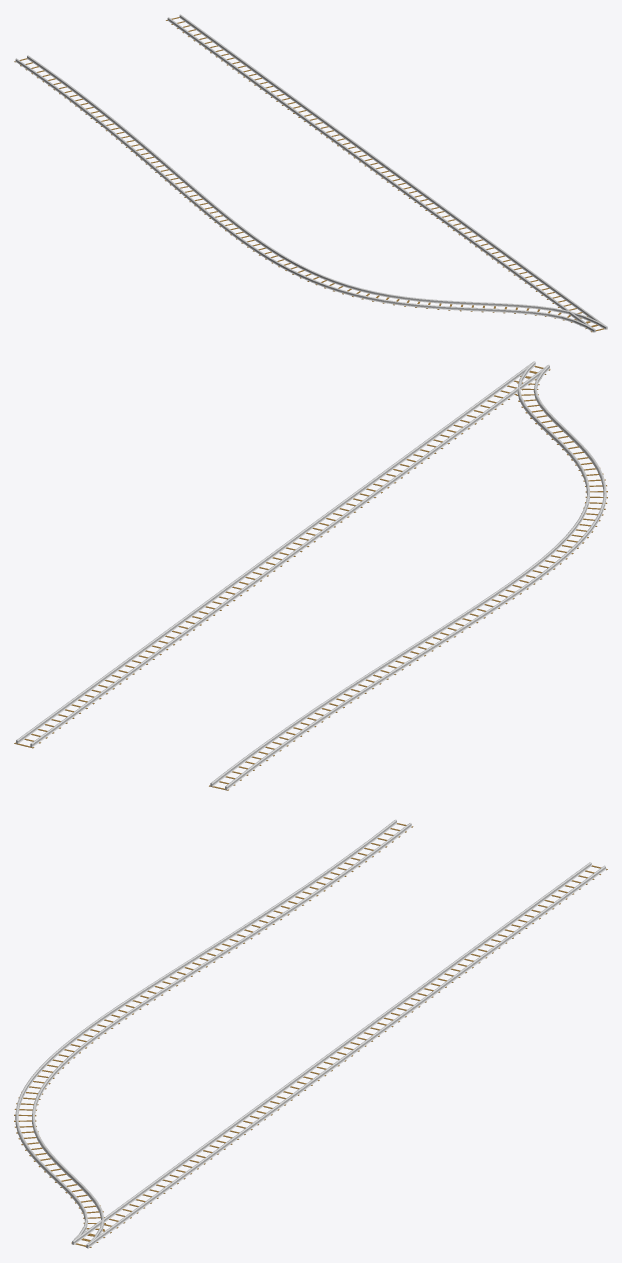
Rendered from coverleaf2.fbx.
3 renders of one model, top to bottom at view 1: azimuth 30°, elevation 25°; view 2: azimuth 150°, elevation 25°; view 3: azimuth 330°, elevation 25°, orthographic. The views are drawn at different scales.
Visible parts, largest first — view 1: Top, Top.001, Bot.001, Bot; view 2: Top.001, Top, Bot, Bot.001; view 3: Top.001, Top, Bot, Bot.001.
Part boxes in pixels (x1,y1,x2,y2): Top: (15,55,607,332); Top.001: (167,14,606,329); Bot.001: (166,17,603,331); Bot: (14,58,604,332); Top.001: (16,361,549,747); Top: (210,362,606,789); Bot: (209,366,607,790); Bot.001: (14,366,550,748); Top.001: (72,862,606,1247); Top: (15,819,411,1248); Bot: (14,823,413,1247); Bot.001: (76,865,607,1247).
Bounding box in the file's own units: 3918 × 58.32 × 15462.
